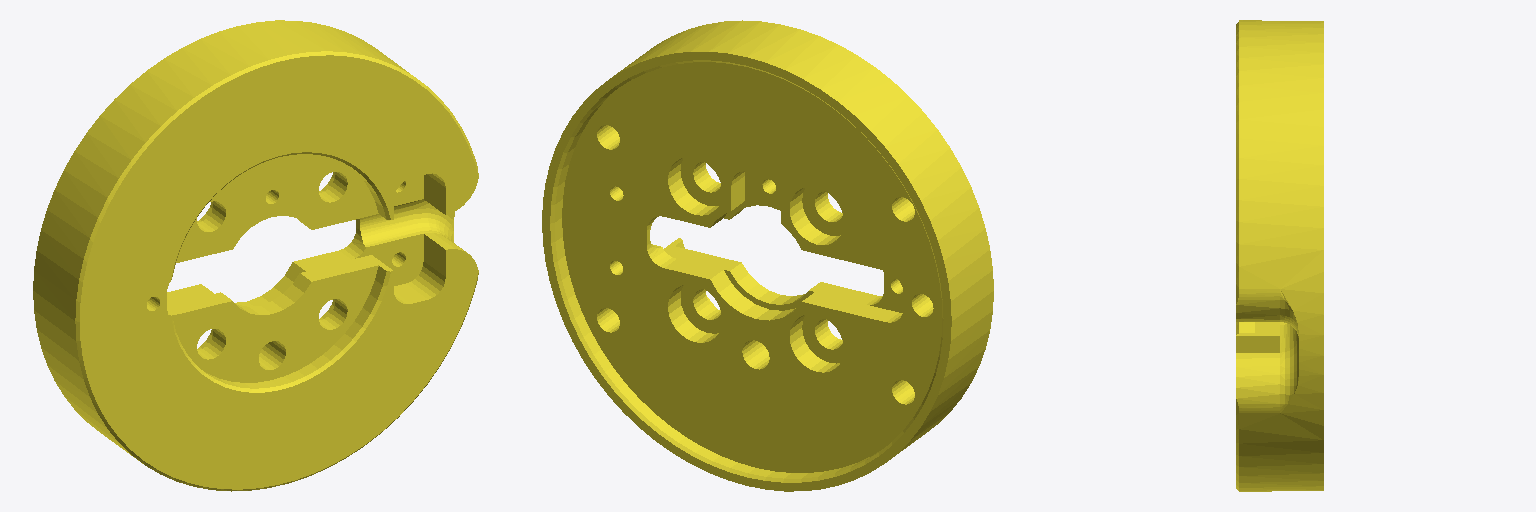
The robot description file, URDF, robot "ur5":
<?xml version="1.0" ?>
<!-- =================================================================================== -->
<!-- |    This document was autogenerated by xacro from ur5_robotiq85_gripper.urdf.xacro | -->
<!-- |    EDITING THIS FILE BY HAND IS NOT RECOMMENDED                                 | -->
<!-- =================================================================================== -->
<robot name="ur5">
  <!-- measured from model -->
  <!--property name="shoulder_height" value="0.089159" /-->
  <!--property name="shoulder_offset" value="0.13585" /-->
  <!-- shoulder_offset - elbow_offset + wrist_1_length = 0.10915 -->
  <!--property name="upper_arm_length" value="0.42500" /-->
  <!--property name="elbow_offset" value="0.1197" /-->
  <!-- CAD measured -->
  <!--property name="forearm_length" value="0.39225" /-->
  <!--property name="wrist_1_length" value="0.093" /-->
  <!-- CAD measured -->
  <!--property name="wrist_2_length" value="0.09465" /-->
  <!-- In CAD this distance is 0.930, but in the spec it is 0.09465 -->
  <!--property name="wrist_3_length" value="0.0823" /-->
  <!-- manually measured -->
  <link name="base_link">
    <visual>
      <geometry>
        <mesh filename="meshes/visual/base.dae"/>
      </geometry>
      <material name="LightGrey">
        <color rgba="0.7 0.7 0.7 1.0"/>
      </material>
    </visual>
    <collision>
      <geometry>
        <mesh filename="meshes/collision/base.stl"/>
      </geometry>
    </collision>
    <inertial>
      <mass value="4.0"/>
      <origin rpy="0 0 0" xyz="0.0 0.0 0.0"/>
      <inertia ixx="0.00443333156" ixy="0.0" ixz="0.0" iyy="0.00443333156" iyz="0.0" izz="0.0072"/>
    </inertial>
  </link>
  <joint name="shoulder_pan_joint" type="revolute">
    <parent link="base_link"/>
    <child link="shoulder_link"/>
    <origin rpy="0.0 0.0 0.0" xyz="0.0 0.0 0.089159"/>
    <axis xyz="0 0 1"/>
    <limit effort="150.0" lower="-3.141592653589793" upper="3.141592653589793" velocity="3.15"/>
    <dynamics damping="0.0" friction="0.0"/>
  </joint>
  <link name="shoulder_link">
    <visual>
      <geometry>
        <mesh filename="meshes/visual/shoulder.dae"/>
      </geometry>
      <material name="LightGrey">
        <color rgba="0.7 0.7 0.7 1.0"/>
      </material>
    </visual>
    <collision>
      <geometry>
        <mesh filename="meshes/collision/shoulder.stl"/>
      </geometry>
    </collision>
    <inertial>
      <mass value="3.7"/>
      <origin rpy="0 0 0" xyz="0.0 0.0 0.0"/>
      <inertia ixx="0.010267495893" ixy="0.0" ixz="0.0" iyy="0.010267495893" iyz="0.0" izz="0.00666"/>
    </inertial>
  </link>
  <joint name="shoulder_lift_joint" type="revolute">
    <parent link="shoulder_link"/>
    <child link="upper_arm_link"/>
    <origin rpy="0.0 1.5707963267948966 0.0" xyz="0.0 0.13585 0.0"/>
    <axis xyz="0 1 0"/>
    <limit effort="150.0" lower="-3.141592653589793" upper="3.141592653589793" velocity="3.15"/>
    <dynamics damping="0.0" friction="0.0"/>
  </joint>
  <link name="upper_arm_link">
    <visual>
      <geometry>
        <mesh filename="meshes/visual/upperarm.dae"/>
      </geometry>
      <material name="LightGrey">
        <color rgba="0.7 0.7 0.7 1.0"/>
      </material>
    </visual>
    <collision>
      <geometry>
        <mesh filename="meshes/collision/upperarm.stl"/>
      </geometry>
    </collision>
    <inertial>
      <mass value="8.393"/>
      <origin rpy="0 0 0" xyz="0.0 0.0 0.28"/>
      <inertia ixx="0.22689067591036005" ixy="0.0" ixz="0.0" iyy="0.22689067591036005" iyz="0.0" izz="0.0151074"/>
    </inertial>
  </link>
  <joint name="elbow_joint" type="revolute">
    <parent link="upper_arm_link"/>
    <child link="forearm_link"/>
    <origin rpy="0.0 0.0 0.0" xyz="0.0 -0.1197 0.425"/>
    <axis xyz="0 1 0"/>
    <limit effort="150.0" lower="-3.141592653589793" upper="3.141592653589793" velocity="3.15"/>
    <dynamics damping="0.0" friction="0.0"/>
  </joint>
  <link name="forearm_link">
    <visual>
      <geometry>
        <mesh filename="meshes/visual/forearm.dae"/>
      </geometry>
      <material name="LightGrey">
        <color rgba="0.7 0.7 0.7 1.0"/>
      </material>
    </visual>
    <collision>
      <geometry>
        <mesh filename="meshes/collision/forearm.stl"/>
      </geometry>
    </collision>
    <inertial>
      <mass value="2.275"/>
      <origin rpy="0 0 0" xyz="0.0 0.0 0.25"/>
      <inertia ixx="0.04944331355599999" ixy="0.0" ixz="0.0" iyy="0.04944331355599999" iyz="0.0" izz="0.004095"/>
    </inertial>
  </link>
  <joint name="wrist_1_joint" type="revolute">
    <parent link="forearm_link"/>
    <child link="wrist_1_link"/>
    <origin rpy="0.0 1.5707963267948966 0.0" xyz="0.0 0.0 0.39225"/>
    <axis xyz="0 1 0"/>
    <limit effort="28.0" lower="-3.141592653589793" upper="3.141592653589793" velocity="3.2"/>
    <dynamics damping="0.0" friction="0.0"/>
  </joint>
  <link name="wrist_1_link">
    <visual>
      <geometry>
        <mesh filename="meshes/visual/wrist1.dae"/>
      </geometry>
      <material name="LightGrey">
        <color rgba="0.7 0.7 0.7 1.0"/>
      </material>
    </visual>
    <collision>
      <geometry>
        <mesh filename="meshes/collision/wrist1.stl"/>
      </geometry>
    </collision>
    <inertial>
      <mass value="1.219"/>
      <origin rpy="0 0 0" xyz="0.0 0.0 0.0"/>
      <inertia ixx="0.11117275553087999" ixy="0.0" ixz="0.0" iyy="0.11117275553087999" iyz="0.0" izz="0.21942"/>
    </inertial>
  </link>
  <joint name="wrist_2_joint" type="revolute">
    <parent link="wrist_1_link"/>
    <child link="wrist_2_link"/>
    <origin rpy="0.0 0.0 0.0" xyz="0.0 0.093 0.0"/>
    <axis xyz="0 0 1"/>
    <limit effort="28.0" lower="-3.141592653589793" upper="3.141592653589793" velocity="3.2"/>
    <dynamics damping="0.0" friction="0.0"/>
  </joint>
  <link name="wrist_2_link">
    <visual>
      <geometry>
        <mesh filename="meshes/visual/wrist2.dae"/>
      </geometry>
      <material name="LightGrey">
        <color rgba="0.7 0.7 0.7 1.0"/>
      </material>
    </visual>
    <collision>
      <geometry>
        <mesh filename="meshes/collision/wrist2.stl"/>
      </geometry>
    </collision>
    <inertial>
      <mass value="1.219"/>
      <origin rpy="0 0 0" xyz="0.0 0.0 0.0"/>
      <inertia ixx="0.11117275553087999" ixy="0.0" ixz="0.0" iyy="0.11117275553087999" iyz="0.0" izz="0.21942"/>
    </inertial>
  </link>
  <joint name="wrist_3_joint" type="revolute">
    <parent link="wrist_2_link"/>
    <child link="wrist_3_link"/>
    <origin rpy="0.0 0.0 0.0" xyz="0.0 0.0 0.09465"/>
    <axis xyz="0 1 0"/>
    <limit effort="28.0" lower="-3.141592653589793" upper="3.141592653589793" velocity="3.2"/>
    <dynamics damping="0.0" friction="0.0"/>
  </joint>
  <link name="wrist_3_link">
    <visual>
      <geometry>
        <mesh filename="meshes/visual/wrist3.dae"/>
      </geometry>
      <material name="LightGrey">
        <color rgba="0.7 0.7 0.7 1.0"/>
      </material>
    </visual>
    <collision>
      <geometry>
        <mesh filename="meshes/collision/wrist3.stl"/>
      </geometry>
    </collision>
    <inertial>
      <mass value="0.1879"/>
      <origin rpy="0 0 0" xyz="0.0 0.0 0.0"/>
      <inertia ixx="0.017136473145408" ixy="0.0" ixz="0.0" iyy="0.017136473145408" iyz="0.0" izz="0.033822"/>
    </inertial>
  </link>
  <joint name="ee_fixed_joint" type="fixed">
    <parent link="wrist_3_link"/>
    <child link="ee_link"/>
    <origin rpy="0.0 0.0 1.5707963267948966" xyz="0.0 0.0823 0.0"/>
  </joint>
  <link name="ee_link">
    <collision>
      <geometry>
        <box size="0.01 0.01 0.01"/>
      </geometry>
      <origin rpy="0 0 0" xyz="-0.01 0 0"/>
    </collision>
  </link>
  <transmission name="shoulder_pan_trans">
    <type>transmission_interface/SimpleTransmission</type>
    <joint name="shoulder_pan_joint">
      <hardwareInterface>PositionJointInterface</hardwareInterface>
    </joint>
    <actuator name="shoulder_pan_motor">
      <mechanicalReduction>1</mechanicalReduction>
    </actuator>
  </transmission>
  <transmission name="shoulder_lift_trans">
    <type>transmission_interface/SimpleTransmission</type>
    <joint name="shoulder_lift_joint">
      <hardwareInterface>PositionJointInterface</hardwareInterface>
    </joint>
    <actuator name="shoulder_lift_motor">
      <mechanicalReduction>1</mechanicalReduction>
    </actuator>
  </transmission>
  <transmission name="elbow_trans">
    <type>transmission_interface/SimpleTransmission</type>
    <joint name="elbow_joint">
      <hardwareInterface>PositionJointInterface</hardwareInterface>
    </joint>
    <actuator name="elbow_motor">
      <mechanicalReduction>1</mechanicalReduction>
    </actuator>
  </transmission>
  <transmission name="wrist_1_trans">
    <type>transmission_interface/SimpleTransmission</type>
    <joint name="wrist_1_joint">
      <hardwareInterface>PositionJointInterface</hardwareInterface>
    </joint>
    <actuator name="wrist_1_motor">
      <mechanicalReduction>1</mechanicalReduction>
    </actuator>
  </transmission>
  <transmission name="wrist_2_trans">
    <type>transmission_interface/SimpleTransmission</type>
    <joint name="wrist_2_joint">
      <hardwareInterface>PositionJointInterface</hardwareInterface>
    </joint>
    <actuator name="wrist_2_motor">
      <mechanicalReduction>1</mechanicalReduction>
    </actuator>
  </transmission>
  <transmission name="wrist_3_trans">
    <type>transmission_interface/SimpleTransmission</type>
    <joint name="wrist_3_joint">
      <hardwareInterface>PositionJointInterface</hardwareInterface>
    </joint>
    <actuator name="wrist_3_motor">
      <mechanicalReduction>1</mechanicalReduction>
    </actuator>
  </transmission>
  <!-- nothing to do here at the moment -->
  <!-- ROS base_link to UR 'Base' Coordinates transform -->
  <link name="base"/>
  <joint name="base_link-base_fixed_joint" type="fixed">
    <!-- NOTE: this rotation is only needed as long as base_link itself is
                 not corrected wrt the real robot (ie: rotated over 180
                 degrees)
      -->
    <origin rpy="0 0 -3.141592653589793" xyz="0 0 0"/>
    <parent link="base_link"/>
    <child link="base"/>
  </joint>
  <!-- Frame coincident with all-zeros TCP on UR controller -->
  <link name="tool0"/>
  <joint name="wrist_3_link-tool0_fixed_joint" type="fixed">
    <origin rpy="-1.5707963267948966 0 0" xyz="0 0.0823 0"/>
    <parent link="wrist_3_link"/>
    <child link="tool0"/>
  </joint>
  <link name="world"/>
  <joint name="world_joint" type="fixed">
    <parent link="world"/>
    <child link="base_link"/>
    <origin rpy="0.0 0.0 0.0" xyz="0.0 0.0 0.0"/>
  </joint>
  <!-- Robotiq Coupler -->
  <!--  + Height added by the coupler: 8mm -->
  <!--  + Reference frame: at the middle (4mm) -->
  <link name="robotiq_coupler">
    <visual>
      <geometry>
        <mesh filename="robotiq/robotiq_85_coupler.stl"/>
      </geometry>
      <material name="flat_black"/>
    </visual>
    <collision>
      <geometry>
        <mesh filename="robotiq/robotiq_85_coupler.stl"/>
      </geometry>
    </collision>
    <inertial>
      <origin rpy="0 0 0" xyz="2.073e-05   1.45286e-03  -1.1049e-03"/>
      <mass value="0.168"/>
      <inertia ixx="6.69695624e-05" ixy="5.21511788e-09" ixz="-2.74383009e-08" iyy="7.85088161e-05" iyz="5.41105193e-07" izz="1.41819717e-04"/>
    </inertial>
  </link>
  <joint name="robotiq_coupler_joint" type="fixed">
    <origin rpy="0 0 -1.5707963267948966" xyz="0 0 0.004"/>
    <parent link="tool0"/>
    <child link="robotiq_coupler"/>
  </joint>
  <gazebo reference="robotiq_coupler">
    <mu1>0.9</mu1>
    <mu2>0.9</mu2>
    <material>Gazebo/FlatBlack</material>
  </gazebo>
  <!-- Equivalent to the OpenRAVE manipulator denso_robotiq_85_gripper -->
  <!-- <link name="denso_robotiq_85_gripper" /> -->
  <!-- <joint name="manipulator_dummy_joint" type="fixed"> -->
  <!--   <origin xyz="0 0 0.1441" rpy="0 0 0" /> -->
  <!--   <parent link="robotiq_coupler"/> -->
  <!--   <child link="denso_robotiq_85_gripper"/> -->
  <!-- </joint> -->
  <joint name="robotiq_85_base_joint" type="fixed">
    <parent link="robotiq_coupler"/>
    <child link="robotiq_85_base_link"/>
    <origin rpy="0 -1.5707963267948966 3.141592653589793" xyz="0 0 0.004"/>
  </joint>
  <link name="robotiq_85_base_link">
    <visual>
      <geometry>
        <mesh filename="robotiq/visual/robotiq_85_base_link.dae"/>
      </geometry>
    </visual>
    <collision>
      <geometry>
        <mesh filename="robotiq/collision/robotiq_85_base_link.stl"/>
      </geometry>
    </collision>
    <inertial>
      <mass value="0.636951"/>
      <origin xyz="0.0 0.0 0.0"/>
      <inertia ixx="0.000380" ixy="0.000000" ixz="0.000000" iyx="0.000000" iyy="0.001110" iyz="0.000000" izx="0.000000" izy="0.000000" izz="0.001171"/>
    </inertial>
  </link>
  <joint name="robotiq_85_left_knuckle_joint" type="revolute">
    <parent link="robotiq_85_base_link"/>
    <child link="robotiq_85_left_knuckle_link"/>
    <axis xyz="0 0 1"/>
    <origin rpy="3.141592653589793 0.0 0.0" xyz="0.05490451627 0.03060114443 0.0"/>
    <limit effort="1000" lower="0.0" upper="0.80285" velocity="0.5"/>
  </joint>
  <joint name="robotiq_85_right_knuckle_joint" type="continuous">
    <parent link="robotiq_85_base_link"/>
    <child link="robotiq_85_right_knuckle_link"/>
    <axis xyz="0 0 1"/>
    <origin rpy="0.0 0.0 0.0" xyz="0.05490451627 -0.03060114443 0.0"/>
    <limit effort="1000" lower="-3.14" upper="3.14" velocity="100.0"/>
    <mimic joint="robotiq_85_left_knuckle_joint"/>
  </joint>
  <link name="robotiq_85_left_knuckle_link">
    <visual>
      <geometry>
        <mesh filename="robotiq/visual/robotiq_85_knuckle_link.dae"/>
      </geometry>
    </visual>
    <collision>
      <geometry>
        <mesh filename="robotiq/collision/robotiq_85_knuckle_link.stl"/>
      </geometry>
    </collision>
    <inertial>
      <mass value="0.018491"/>
      <origin xyz="0.0 0.0 0.0"/>
      <inertia ixx="0.000009" ixy="-0.000001" ixz="0.000000" iyx="-0.000001" iyy="0.000001" iyz="0.000000" izx="0.000000" izy="0.000000" izz="0.000010"/>
    </inertial>
  </link>
  <link name="robotiq_85_right_knuckle_link">
    <visual>
      <geometry>
        <mesh filename="robotiq/visual/robotiq_85_knuckle_link.dae"/>
      </geometry>
    </visual>
    <collision>
      <geometry>
        <mesh filename="robotiq/collision/robotiq_85_knuckle_link.stl"/>
      </geometry>
    </collision>
    <inertial>
      <mass value="0.018491"/>
      <origin xyz="0.0 0.0 0.0"/>
      <inertia ixx="0.000009" ixy="-0.000001" ixz="0.000000" iyx="-0.000001" iyy="0.000001" iyz="0.000000" izx="0.000000" izy="0.000000" izz="0.000010"/>
    </inertial>
  </link>
  <joint name="robotiq_85_left_finger_joint" type="fixed">
    <parent link="robotiq_85_left_knuckle_link"/>
    <child link="robotiq_85_left_finger_link"/>
    <origin rpy="0 0 0" xyz="-0.00408552455 -0.03148604435 0.0"/>
  </joint>
  <joint name="robotiq_85_right_finger_joint" type="fixed">
    <parent link="robotiq_85_right_knuckle_link"/>
    <child link="robotiq_85_right_finger_link"/>
    <origin rpy="0 0 0" xyz="-0.00408552455 -0.03148604435 0.0"/>
  </joint>
  <link name="robotiq_85_left_finger_link">
    <visual>
      <geometry>
        <mesh filename="robotiq/visual/robotiq_85_finger_link.dae"/>
      </geometry>
    </visual>
    <collision>
      <geometry>
        <mesh filename="robotiq/collision/robotiq_85_finger_link.stl"/>
      </geometry>
    </collision>
    <inertial>
      <mass value="0.027309"/>
      <origin xyz="0.0 0.0 0.0"/>
      <inertia ixx="0.000003" ixy="-0.000002" ixz="0.000000" iyx="-0.000002" iyy="0.000021" iyz="0.000000" izx="0.000000" izy="0.000000" izz="0.000020"/>
    </inertial>
  </link>
  <link name="robotiq_85_right_finger_link">
    <visual>
      <geometry>
        <mesh filename="robotiq/visual/robotiq_85_finger_link.dae"/>
      </geometry>
    </visual>
    <collision>
      <geometry>
        <mesh filename="robotiq/collision/robotiq_85_finger_link.stl"/>
      </geometry>
    </collision>
    <inertial>
      <mass value="0.027309"/>
      <origin xyz="0.0 0.0 0.0"/>
      <inertia ixx="0.000003" ixy="-0.000002" ixz="0.000000" iyx="-0.000002" iyy="0.000021" iyz="0.000000" izx="0.000000" izy="0.000000" izz="0.000020"/>
    </inertial>
  </link>
  <joint name="robotiq_85_left_inner_knuckle_joint" type="continuous">
    <parent link="robotiq_85_base_link"/>
    <child link="robotiq_85_left_inner_knuckle_link"/>
    <axis xyz="0 0 1"/>
    <origin rpy="3.141592653589793 0.0 0.0" xyz="0.06142 0.0127 0"/>
    <limit effort="0.1" lower="-3.14" upper="3.14" velocity="100.0"/>
    <mimic joint="robotiq_85_left_knuckle_joint" offset="0"/>
  </joint>
  <joint name="robotiq_85_right_inner_knuckle_joint" type="continuous">
    <parent link="robotiq_85_base_link"/>
    <child link="robotiq_85_right_inner_knuckle_link"/>
    <axis xyz="0 0 1"/>
    <origin rpy="0 0 0" xyz="0.06142 -0.0127 0"/>
    <limit effort="0.1" lower="-3.14" upper="3.14" velocity="100.0"/>
    <mimic joint="robotiq_85_left_knuckle_joint" offset="0"/>
  </joint>
  <link name="robotiq_85_left_inner_knuckle_link">
    <visual>
      <geometry>
        <mesh filename="robotiq/visual/robotiq_85_inner_knuckle_link.dae"/>
      </geometry>
    </visual>
    <collision>
      <geometry>
        <mesh filename="robotiq/collision/robotiq_85_inner_knuckle_link.stl"/>
      </geometry>
    </collision>
    <inertial>
      <mass value="0.029951"/>
      <origin xyz="0.0 0.0 0.0"/>
      <inertia ixx="0.000039" ixy="0.000000" ixz="0.000000" iyx="0.000000" iyy="0.000005" iyz="0.000000" izx="0.000000" izy="0.000000" izz="0.000035"/>
    </inertial>
  </link>
  <link name="robotiq_85_right_inner_knuckle_link">
    <visual>
      <geometry>
        <mesh filename="robotiq/visual/robotiq_85_inner_knuckle_link.dae"/>
      </geometry>
    </visual>
    <collision>
      <geometry>
        <mesh filename="robotiq/collision/robotiq_85_inner_knuckle_link.stl"/>
      </geometry>
    </collision>
    <inertial>
      <mass value="0.029951"/>
      <origin xyz="0.0 0.0 0.0"/>
      <inertia ixx="0.000039" ixy="0.000000" ixz="0.000000" iyx="0.000000" iyy="0.000005" iyz="0.000000" izx="0.000000" izy="0.000000" izz="0.000035"/>
    </inertial>
  </link>
  <joint name="robotiq_85_left_finger_tip_joint" type="continuous">
    <parent link="robotiq_85_left_inner_knuckle_link"/>
    <child link="robotiq_85_left_finger_tip_link"/>
    <axis xyz="0 0 1"/>
    <origin rpy="0.0 0.0 0.0" xyz="0.04303959807 -0.03759940821 0.0"/>
    <limit effort="0.1" lower="-3.14" upper="3.14" velocity="100.0"/>
    <mimic joint="robotiq_85_left_knuckle_joint" multiplier="-1"/>
  </joint>
  <joint name="robotiq_85_right_finger_tip_joint" type="continuous">
    <parent link="robotiq_85_right_inner_knuckle_link"/>
    <child link="robotiq_85_right_finger_tip_link"/>
    <axis xyz="0 0 1"/>
    <origin rpy="0.0 0.0 0.0" xyz="0.04303959807 -0.03759940821  0.0"/>
    <limit effort="0.1" lower="-3.14" upper="3.14" velocity="100.0"/>
    <mimic joint="robotiq_85_left_knuckle_joint" multiplier="-1"/>
  </joint>
  <link name="robotiq_85_left_finger_tip_link">
    <visual>
      <geometry>
        <mesh filename="robotiq/visual/robotiq_85_finger_tip_link.dae"/>
      </geometry>
    </visual>
    <collision>
      <geometry>
        <mesh filename="robotiq/collision/robotiq_85_finger_tip_link.stl"/>
      </geometry>
    </collision>
    <inertial>
      <mass value="0.019555"/>
      <origin xyz="0.0 0.0 0.0"/>
      <inertia ixx="0.000002" ixy="0.000000" ixz="0.000000" iyx="0.000000" iyy="0.000005" iyz="0.000000" izx="0.000000" izy="0.000000" izz="0.000006"/>
    </inertial>
  </link>
  <link name="robotiq_85_right_finger_tip_link">
    <visual>
      <geometry>
        <mesh filename="robotiq/visual/robotiq_85_finger_tip_link.dae"/>
      </geometry>
    </visual>
    <collision>
      <geometry>
        <mesh filename="robotiq/collision/robotiq_85_finger_tip_link.stl"/>
      </geometry>
    </collision>
    <inertial>
      <mass value="0.019555"/>
      <origin xyz="0.0 0.0 0.0"/>
      <inertia ixx="0.000002" ixy="0.000000" ixz="0.000000" iyx="0.000000" iyy="0.000005" iyz="0.000000" izx="0.000000" izy="0.000000" izz="0.000006"/>
    </inertial>
  </link>
  <!-- Improve grasping physics -->
  <gazebo reference="robotiq_85_left_finger_tip_link">
    <kp>1000000.0</kp>
    <kd>1.0</kd>
    <mu1>1.0</mu1>
    <mu2>1.0</mu2>
    <minDepth>0.001</minDepth>
  </gazebo>
  <gazebo reference="robotiq_85_right_finger_tip_link">
    <kp>1000000.0</kp>
    <kd>1.0</kd>
    <mu1>1.0</mu1>
    <mu2>1.0</mu2>
    <minDepth>0.001</minDepth>
  </gazebo>
  <transmission name="robotiq_85_left_knuckle_trans">
    <type>transmission_interface/SimpleTransmission</type>
    <joint name="robotiq_85_left_knuckle_joint">
      <hardwareInterface>PositionJointInterface</hardwareInterface>
      <!-- <hardwareInterface>EffortJointInterface</hardwareInterface> -->
    </joint>
    <actuator name="robotiq_85_left_knuckle_motor">
      <mechanicalReduction>1</mechanicalReduction>
      <hardwareInterface>PositionJointInterface</hardwareInterface>
      <!-- <hardwareInterface>EfforJointInterface</hardwareInterface> -->
    </actuator>
  </transmission>
  <!-- Mimic joints -->
  <gazebo>
    <plugin filename="libgazebo_mimic_joint_plugin.so" name="mimic_robotiq_85_1">
      <joint>robotiq_85_left_knuckle_joint</joint>
      <mimicJoint>robotiq_85_right_knuckle_joint</mimicJoint>
    </plugin>
    <plugin filename="libgazebo_mimic_joint_plugin.so" name="mimic_robotiq_85_2">
      <joint>robotiq_85_left_knuckle_joint</joint>
      <mimicJoint>robotiq_85_left_inner_knuckle_joint</mimicJoint>
    </plugin>
    <plugin filename="libgazebo_mimic_joint_plugin.so" name="mimic_robotiq_85_3">
      <joint>robotiq_85_left_knuckle_joint</joint>
      <mimicJoint>robotiq_85_right_inner_knuckle_joint</mimicJoint>
    </plugin>
    <plugin filename="libgazebo_mimic_joint_plugin.so" name="mimic_robotiq_85_4">
      <joint>robotiq_85_left_knuckle_joint</joint>
      <mimicJoint>robotiq_85_left_finger_tip_joint</mimicJoint>
      <multiplier>-1.0</multiplier>
      <offset>0.0</offset>
    </plugin>
    <plugin filename="libgazebo_mimic_joint_plugin.so" name="mimic_robotiq_85_5">
      <joint>robotiq_85_left_knuckle_joint</joint>
      <mimicJoint>robotiq_85_right_finger_tip_joint</mimicJoint>
      <multiplier>-1.0</multiplier>
      <offset>0.0</offset>
    </plugin>
  </gazebo>
  <!-- Gazebo FT sensor plugin -->
  <gazebo reference="wrist_3_joint">
    <provideFeedback>true</provideFeedback>
  </gazebo>
  <gazebo>
    <plugin filename="libgazebo_ros_ft_sensor.so" name="ft_sensor_plugin">
      <updateRate>250.0</updateRate>
      <topicName>ft_sensor/raw</topicName>
      <gaussianNoise>0.0</gaussianNoise>
      <jointName>wrist_3_joint</jointName>
    </plugin>
  </gazebo>
  <!-- Gazebo grasping plugin -->
  <gazebo>
    <gripper name="gazebo_gripper">
      <grasp_check>
        <attach_steps>2</attach_steps>
        <!-- default: 20 -->
        <detach_steps>2</detach_steps>
        <!-- default: 40 -->
        <min_contact_count>3</min_contact_count>
      </grasp_check>
      <gripper_link>robotiq_85_left_finger_tip_link</gripper_link>
      <gripper_link>robotiq_85_right_finger_tip_link</gripper_link>
      <palm_link>robotiq_85_base_link</palm_link>
    </gripper>
  </gazebo>
</robot>

--- Facts derived from the render (not from the file) ---
3 views of the same robot in one strip: view 1: azimuth 30°, elevation 25°; view 2: azimuth 150°, elevation 25°; view 3: azimuth 270°, elevation 25° (orthographic).
Robot: ur5 — 21 links, 20 joints (7 revolute, 5 continuous, 8 fixed); root link world; default pose: every joint at zero.
Links seen in each view (by area): view 1: robotiq_coupler; view 2: robotiq_coupler; view 3: robotiq_coupler.
Boxes of the visible links, bbox=[...] form: robotiq_coupler: bbox=[33, 20, 478, 491]; robotiq_coupler: bbox=[542, 20, 993, 491]; robotiq_coupler: bbox=[1236, 20, 1323, 491].
Bounding box of the posed robot: 0.075 × 0.0139 × 0.075 m (x, y, z).
Meshes: 13 distinct files referenced, 1 mesh visuals loaded (1 binary STL); not drawn: 16 (reference not matched to a file when rendering).